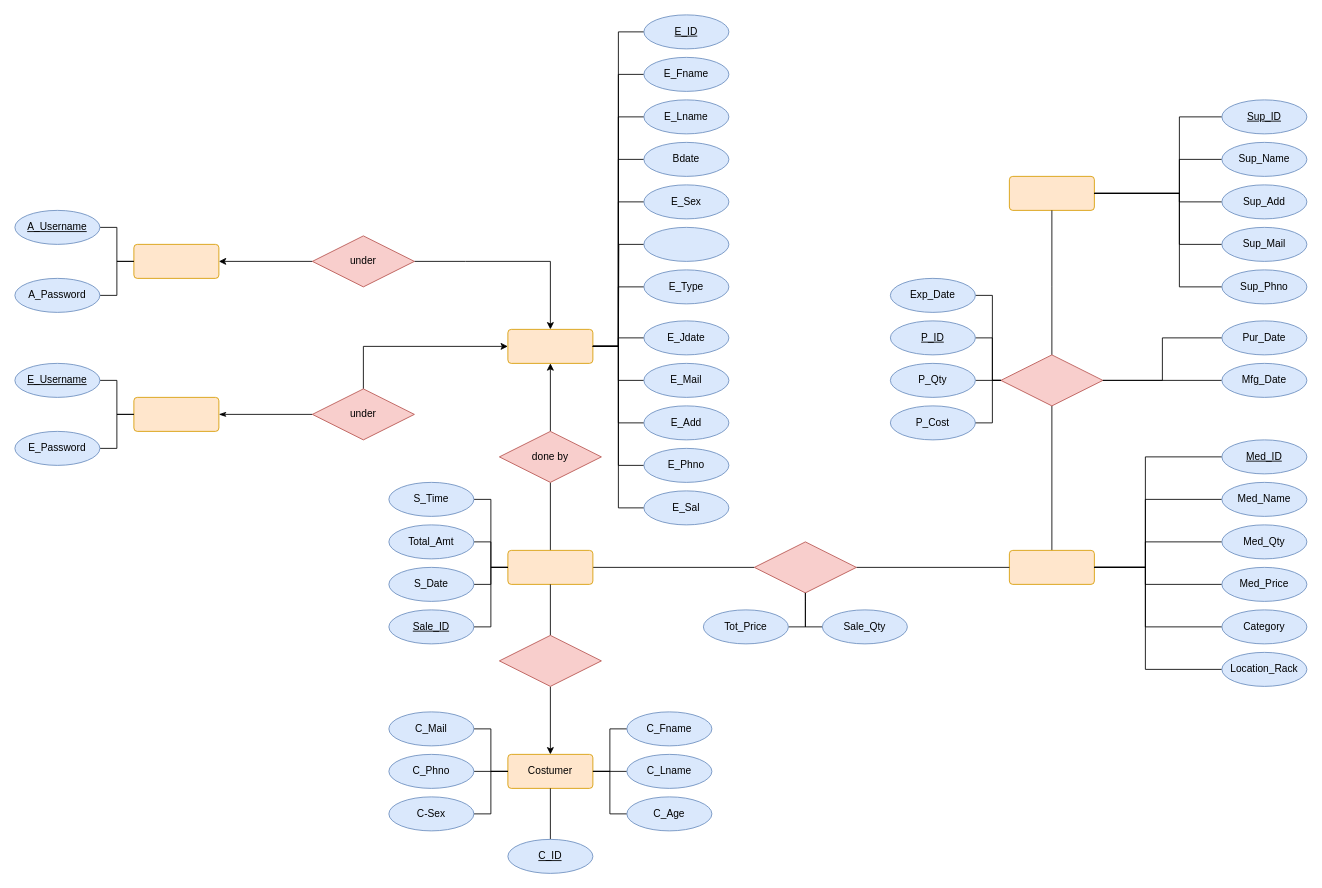
Some shapes in this 1322 by 888 pixel diagram are drawn without their labels. The shapes that lost their labels are listed below. From the top down, each one's centre as x and y in pixels, then its label:
[1051,193]: Suppliers
[176,261]: Admin
[686,244]: E_Age
[550,346]: Employee
[1051,380]: purshases
[176,414]: Emplogin
[550,567]: Sales
[805,567]: sales_item
[1051,567]: Meds
[550,660]: sold to
